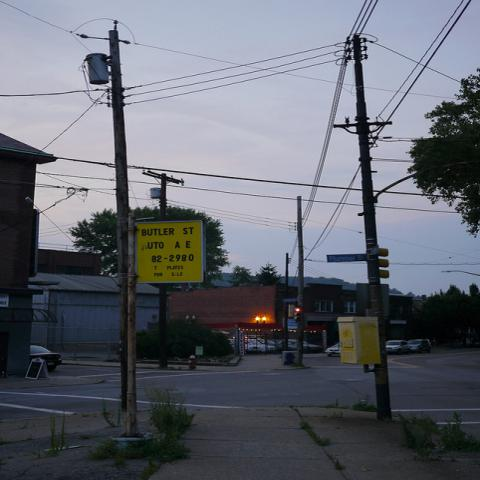car: (29, 345, 62, 372), (279, 339, 320, 353), (243, 339, 278, 355), (386, 340, 411, 355), (408, 339, 432, 353), (256, 339, 282, 351), (324, 342, 340, 357)
